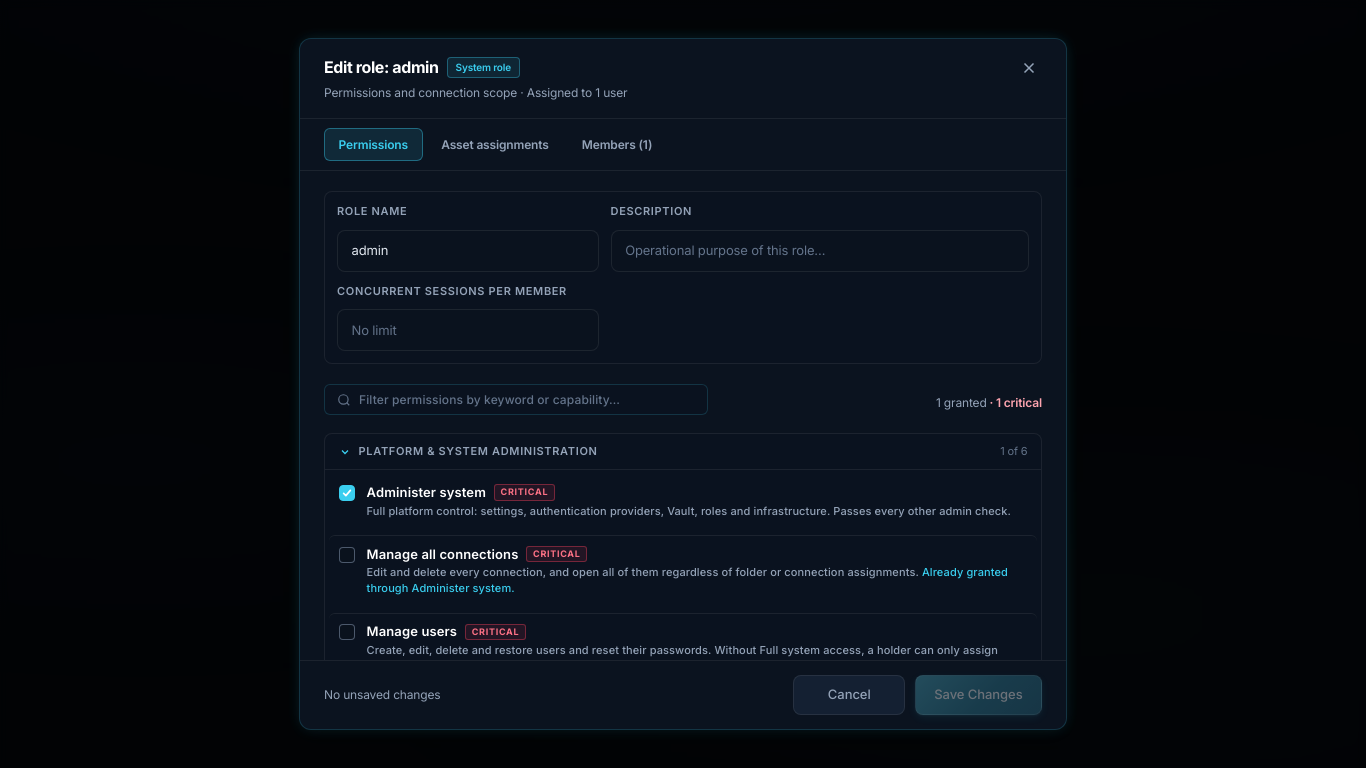
Test: EditRoleModal › warns when the role already reaches every connection
Step 1. Click the tab "Asset assignments" → x=495, y=145, box [427,128,563,161]
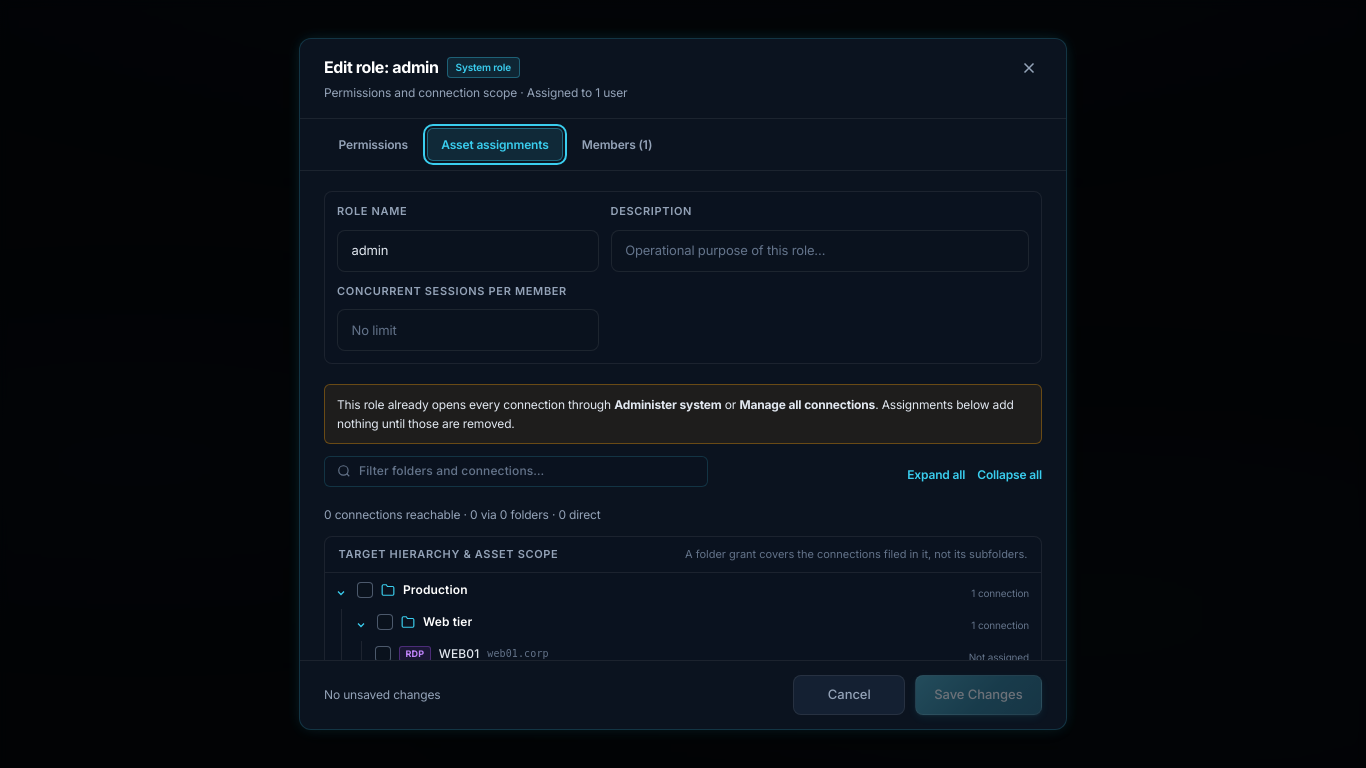
Check: the text "already opens every connection" is shown, box [337,397,614,412]
